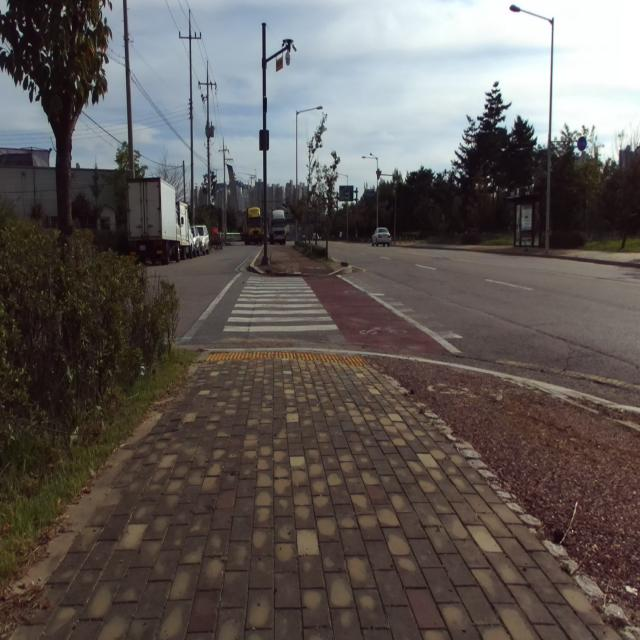횡단보도: (223, 276, 338, 332)
